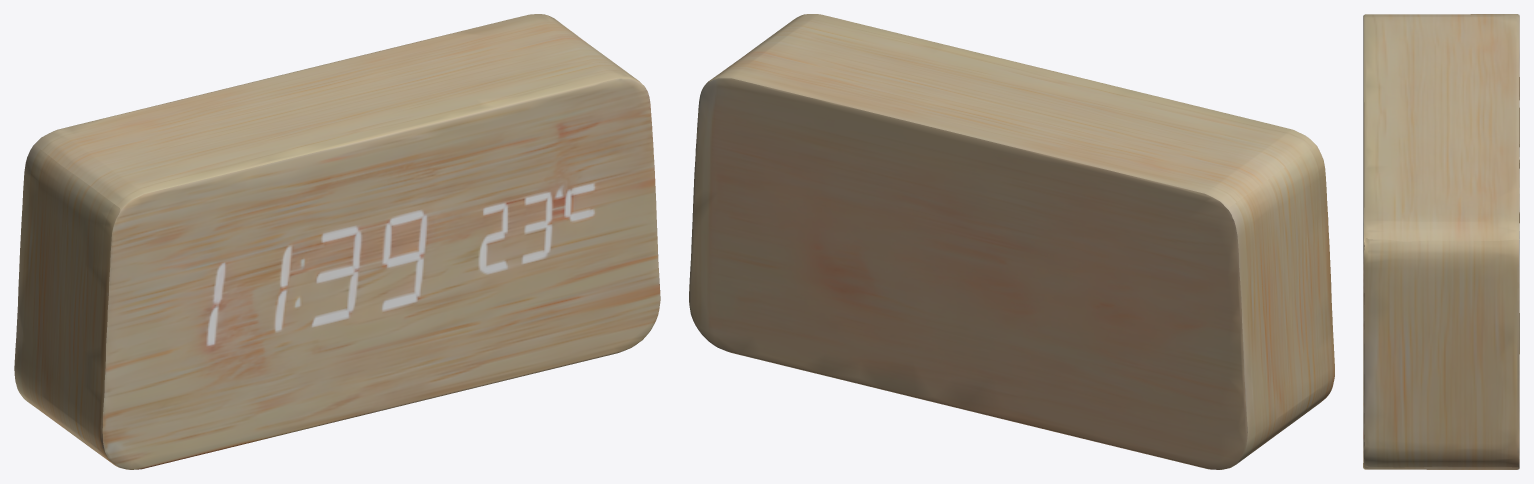
The model's file is Reveil1_3D_textured.glb.
3 views of the same model, side by side, from view 1: azimuth 30°, elevation 25°; view 2: azimuth 150°, elevation 25°; view 3: azimuth 270°, elevation 25° (orthographic). The views are drawn at different scales.
Visible parts, largest first — view 1: temp_mesh.ply; view 2: temp_mesh.ply; view 3: temp_mesh.ply.
Part boxes in pixels (<box>): temp_mesh.ply: <box>14,14,660,469</box>; temp_mesh.ply: <box>689,14,1334,469</box>; temp_mesh.ply: <box>1363,14,1519,469</box>.
Bounding box in the file's own units: 1.97 × 0.9315 × 0.5417.
Materials: 1 (1 with a texture image).
